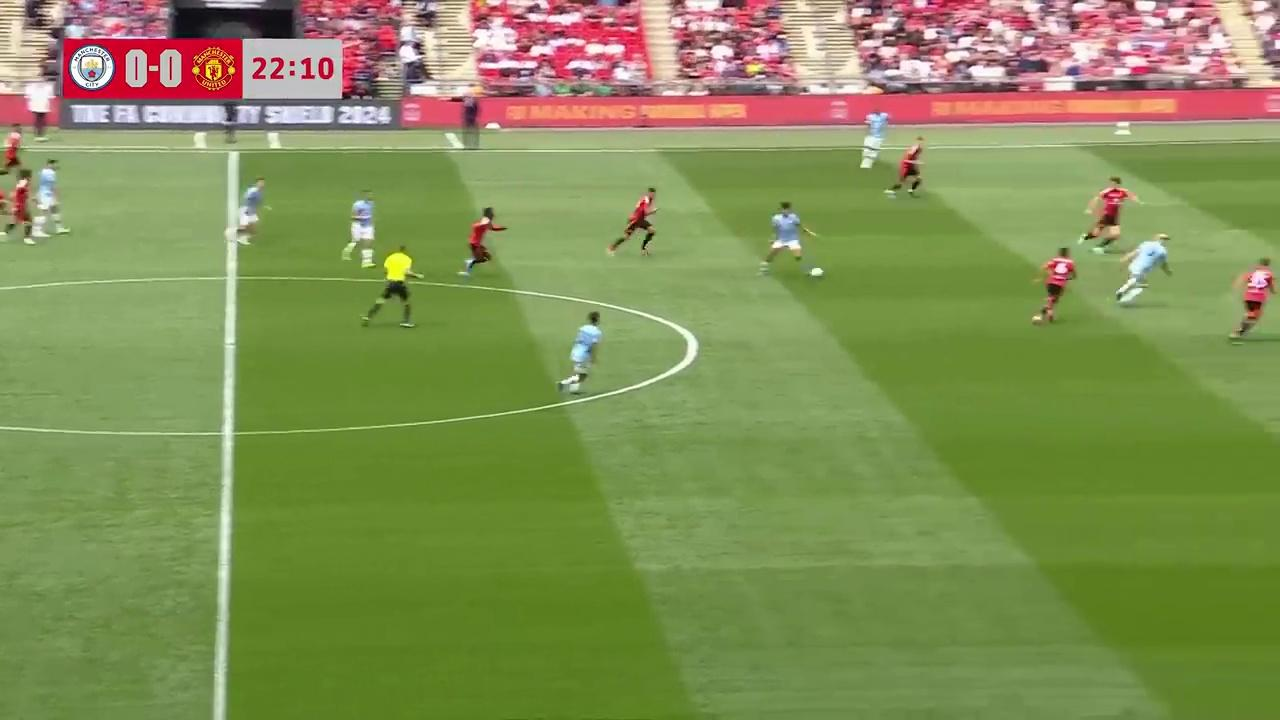ball: (807, 264, 826, 278)
player: (1080, 177, 1139, 254), (1114, 233, 1173, 305), (757, 200, 811, 274), (557, 311, 602, 393), (1229, 258, 1274, 339), (1031, 246, 1078, 323), (458, 206, 507, 276), (609, 188, 657, 256), (883, 137, 925, 198), (340, 193, 375, 266), (33, 159, 66, 233), (236, 177, 272, 244), (2, 174, 34, 243), (859, 111, 886, 170), (0, 125, 24, 175)
referee: (361, 242, 416, 329)
